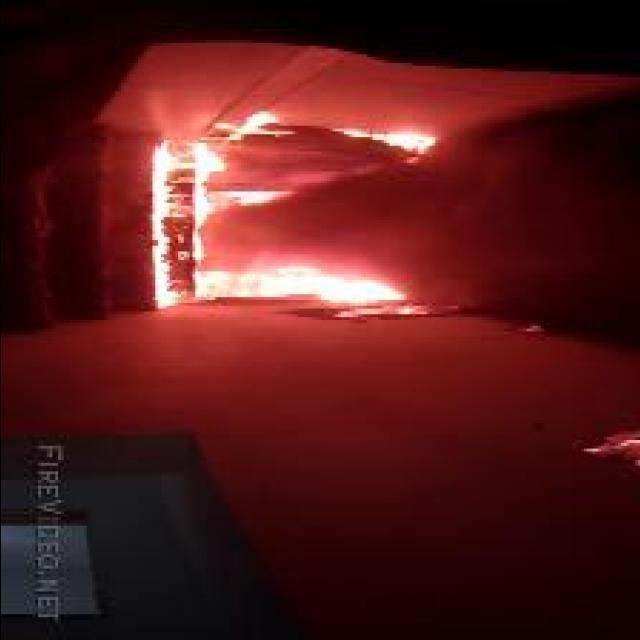Fire: (152, 113, 406, 316), (338, 130, 438, 150)
